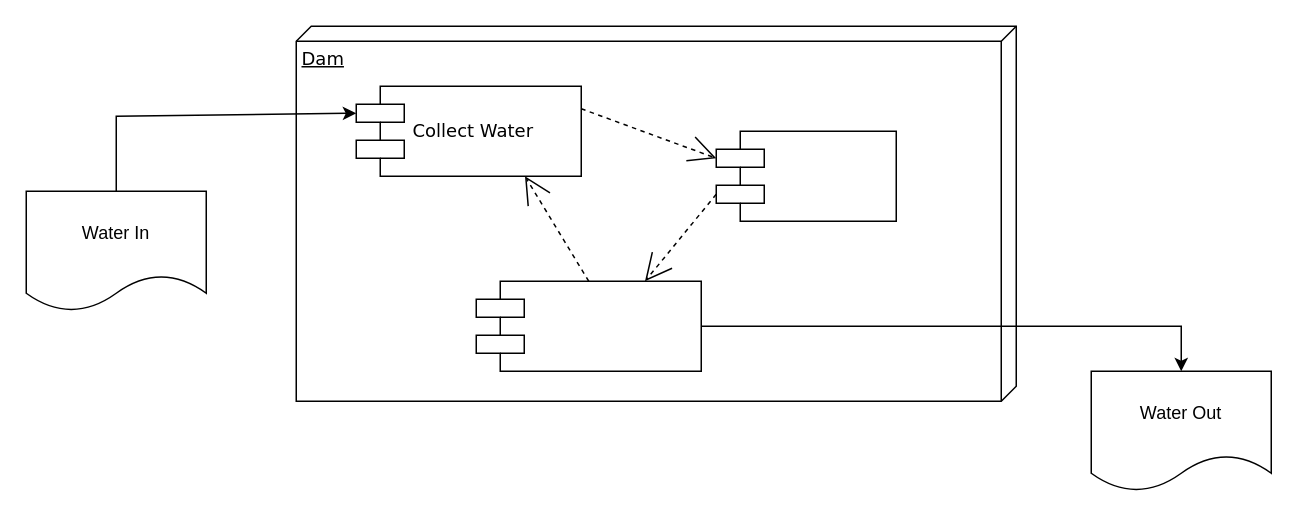
Image size: 1298x518. Some labels were removed from this diagram. The centre of each missing label's shape, as x and y in pixels:
"Filter Water" goes at point 805,175.
"Release Water" goes at point 588,325.
